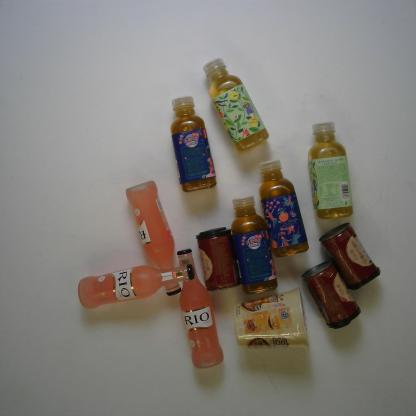Alcohol: (121, 177, 185, 297), (171, 246, 228, 372), (74, 262, 196, 313)
Canned Food: (318, 221, 382, 292), (300, 262, 364, 331), (195, 221, 244, 293)
Drink: (202, 55, 272, 152), (252, 159, 312, 259), (225, 194, 280, 297), (307, 122, 362, 221), (167, 95, 220, 194)
Instant Noodles: (231, 284, 314, 350)
